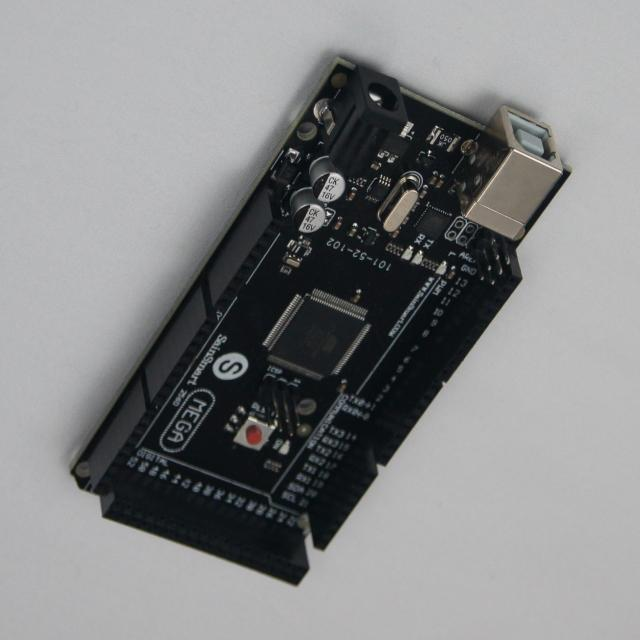Arduino Mega 2560 -Black-: (74, 60, 570, 585)
